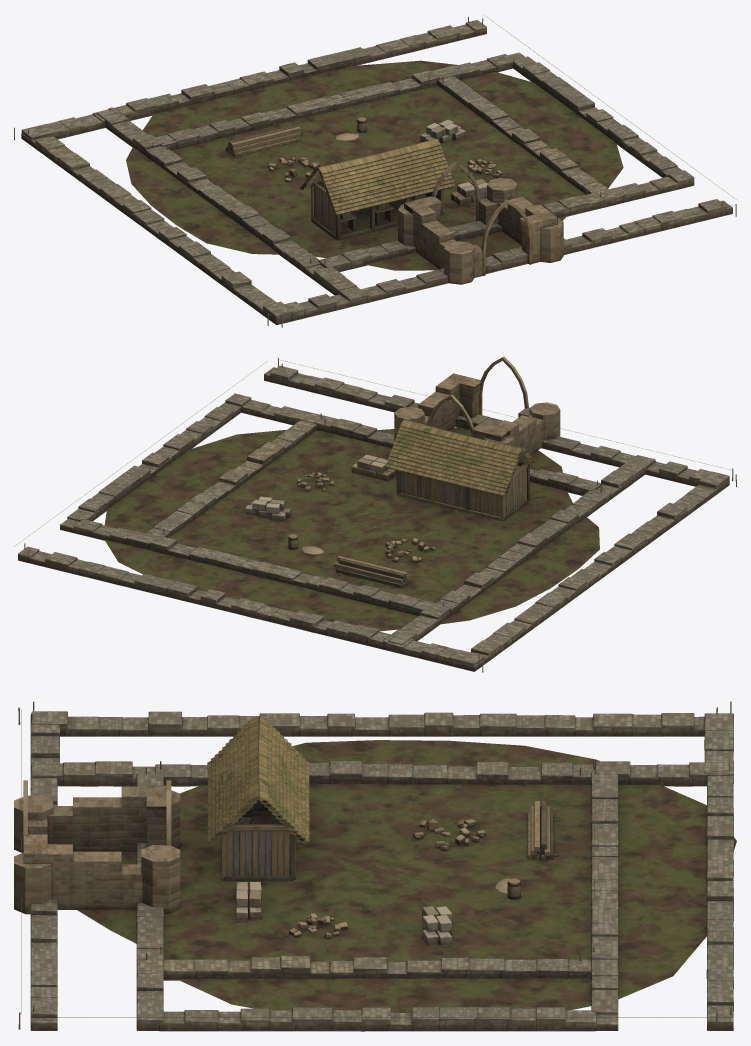
The model's file is university_build1.glb.
3 views of the same model, one above another, from view 1: azimuth 30°, elevation 25°; view 2: azimuth 150°, elevation 25°; view 3: azimuth 270°, elevation 25° (orthographic). The views are drawn at different scales.
Parts seen in each view (by area): view 1: university_build1_LOD0; view 2: university_build1_LOD0; view 3: university_build1_LOD0.
Part boxes in pixels (x1,y1,x2,y2): university_build1_LOD0: (14, 14, 736, 327); university_build1_LOD0: (14, 356, 736, 672); university_build1_LOD0: (14, 701, 736, 1031).
Size of what is drawn, in the model's own units: 31.63 by 4.58 by 30.69.
1 material, 1 textured.
